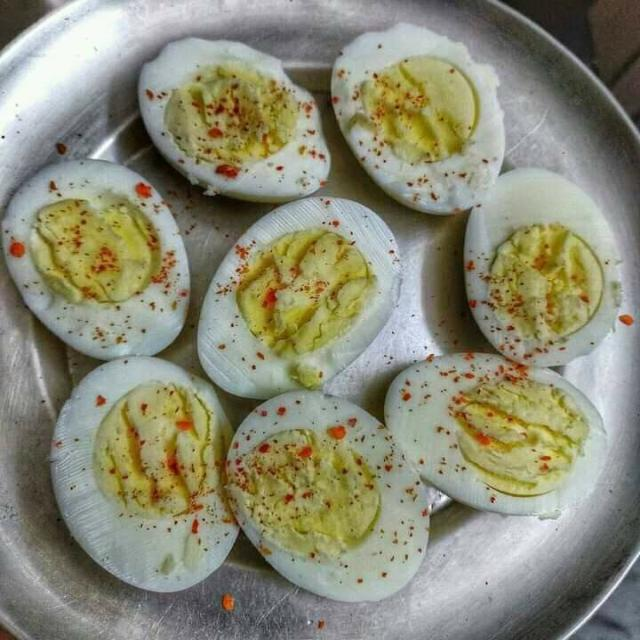eggs: (58, 39, 640, 538)
